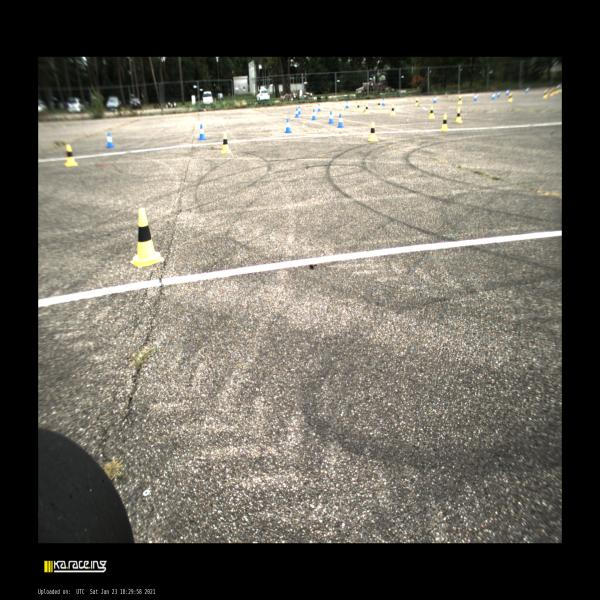blue_cone: (105, 132, 115, 148), (198, 124, 206, 140), (285, 118, 292, 133), (337, 113, 344, 128), (328, 111, 334, 123), (311, 109, 317, 120), (317, 103, 322, 111), (295, 108, 299, 118), (298, 106, 302, 114), (345, 101, 349, 108), (433, 96, 437, 103), (492, 92, 495, 100), (382, 99, 385, 106), (474, 93, 477, 100), (506, 89, 509, 95), (526, 87, 529, 93), (498, 92, 500, 98)
yellow_cone: (131, 208, 164, 267), (64, 144, 77, 166), (221, 132, 231, 153), (368, 122, 378, 141), (441, 113, 449, 131), (455, 108, 462, 123), (428, 106, 435, 118), (390, 103, 396, 116), (364, 102, 370, 113), (543, 89, 548, 99), (508, 93, 513, 102), (356, 102, 360, 112), (458, 95, 462, 104), (377, 100, 381, 109), (415, 98, 419, 107), (550, 88, 554, 96)
